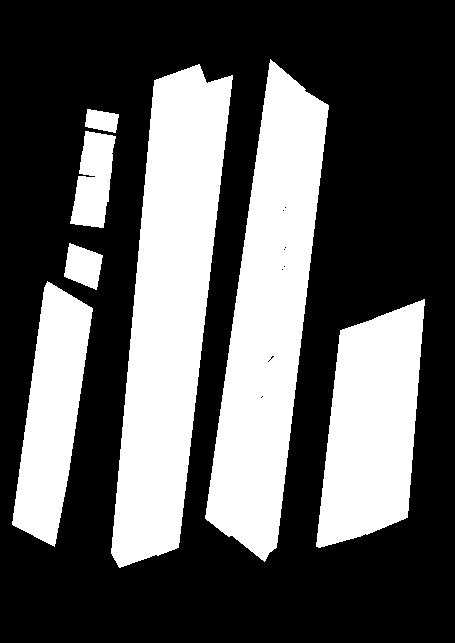parkingspot: (111, 64, 206, 567), (205, 59, 305, 536), (229, 88, 328, 561), (145, 75, 232, 555), (12, 281, 92, 546), (316, 317, 384, 547), (358, 299, 424, 534), (64, 243, 102, 289), (70, 198, 106, 227), (79, 151, 112, 178), (75, 176, 109, 201), (83, 131, 115, 155), (85, 109, 118, 132)
